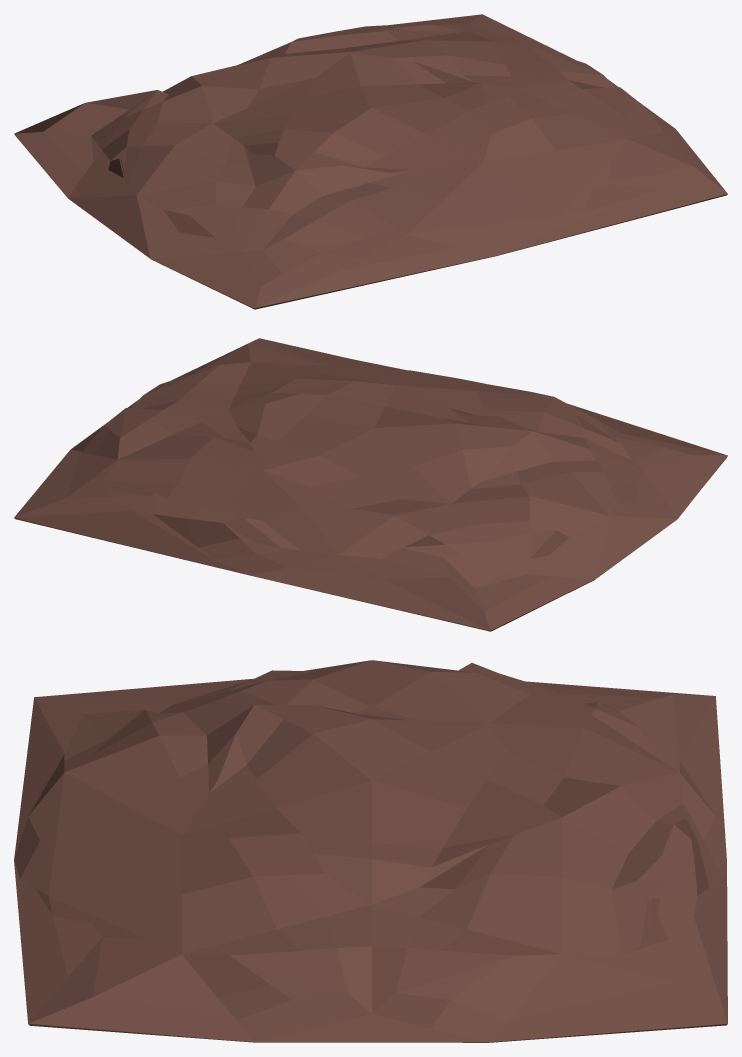
The model's file is carne_molida_baño_maria.fbx.
3 views of the same model, one above another, from view 1: azimuth 30°, elevation 25°; view 2: azimuth 150°, elevation 25°; view 3: azimuth 270°, elevation 25° (orthographic). The views are drawn at different scales.
Visible parts, largest first — view 1: carne; view 2: carne; view 3: carne.
Part boxes in pixels (<box>): carne: <box>14,14,727,309</box>; carne: <box>14,338,727,631</box>; carne: <box>14,660,727,1042</box>.
Size of the model in its own units: 167 by 18.92 by 137.
